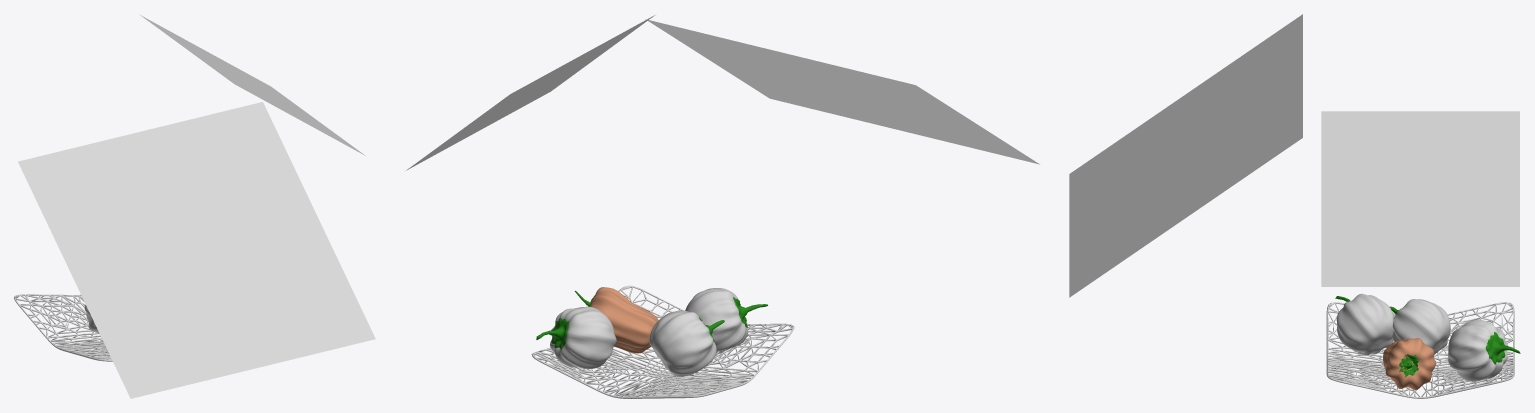
File: piment.dae
3 views of the same model, side by side, from view 1: azimuth 30°, elevation 25°; view 2: azimuth 150°, elevation 25°; view 3: azimuth 270°, elevation 25° (orthographic). The views are drawn at different scales.
Visible parts, largest first — view 1: Plane_003, Plane, Plane_002; view 2: Plane_003, Plane, piment, Plane_002, piment_002, piment_001, piment_003; view 3: Plane_002, Plane_003, Plane, piment_003, piment_002, piment, piment_001, tige_002.
Boxes of the visible parts, bbox=[...] form: Plane_003: bbox=[18, 102, 375, 398]; Plane: bbox=[14, 294, 112, 361]; Plane_002: bbox=[139, 14, 365, 155]; Plane_003: bbox=[645, 19, 1039, 164]; Plane: bbox=[531, 285, 794, 398]; piment: bbox=[649, 310, 716, 376]; Plane_002: bbox=[406, 15, 654, 170]; piment_002: bbox=[550, 306, 616, 368]; piment_001: bbox=[590, 287, 658, 353]; piment_003: bbox=[685, 288, 748, 353]; Plane_002: bbox=[1321, 111, 1519, 286]; Plane_003: bbox=[1069, 14, 1302, 297]; Plane: bbox=[1326, 302, 1514, 398]; piment_003: bbox=[1336, 293, 1395, 355]; piment_002: bbox=[1448, 319, 1507, 381]; piment: bbox=[1392, 299, 1450, 354]; piment_001: bbox=[1383, 338, 1436, 390]; tige_002: bbox=[1485, 332, 1520, 364].
Size of what is drawn, in the model's own units: 12.83 by 13.53 by 9.45.
